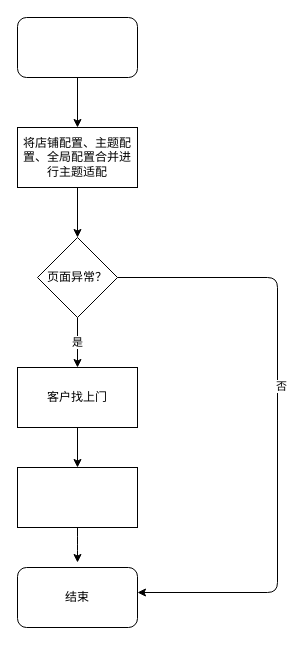
This 304x645 diagram has some shape labels left out. Each missing label, with the box of its shape:
客服借助插件进行适配: (16, 466, 138, 528)
用户进入: (16, 16, 138, 78)
